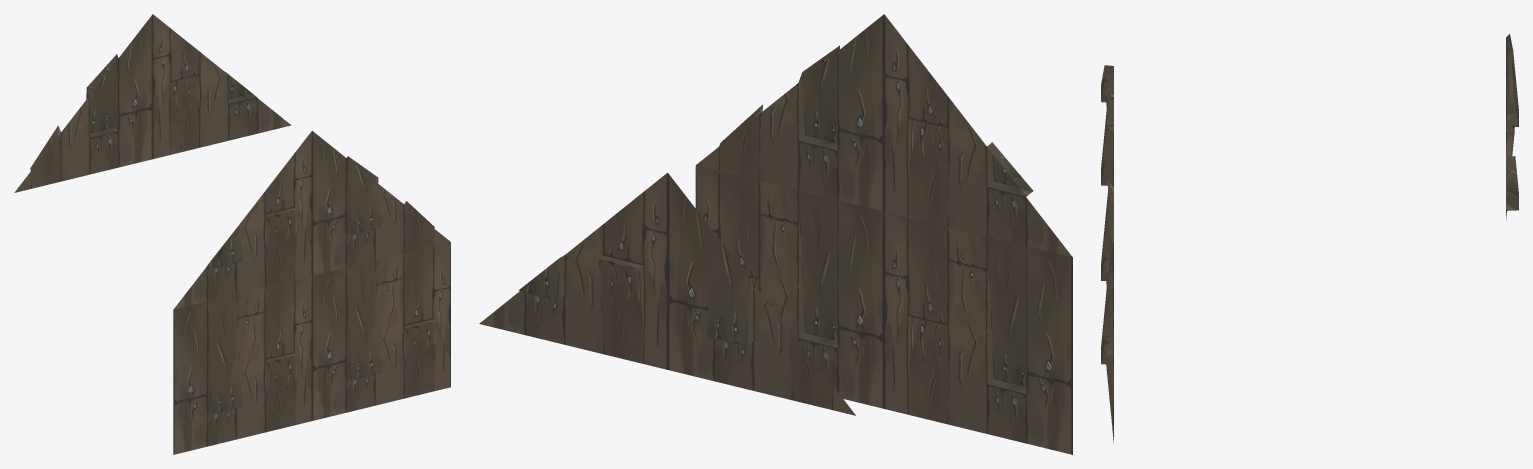
Rendered from polysurface580_mur_0_lev1_lev2.glb.
The picture shows the model from 3 angles, left to right: view 1: azimuth 30°, elevation 25°; view 2: azimuth 150°, elevation 25°; view 3: azimuth 270°, elevation 25°; orthographic projection. The views are drawn at different scales.
Parts seen in each view (by area): view 1: polysurface580_mur_0_lev1_lev2; view 2: polysurface580_mur_0_lev1_lev2; view 3: polysurface580_mur_0_lev1_lev2.
Boxes of the visible parts, x1,y1,x2,y2 form: polysurface580_mur_0_lev1_lev2: (14,14,450,454); polysurface580_mur_0_lev1_lev2: (479,14,1072,454); polysurface580_mur_0_lev1_lev2: (1101,34,1518,442).
Size of the model in its own units: 6.14 by 6.14 by 6.5.
1 material, 1 textured.
